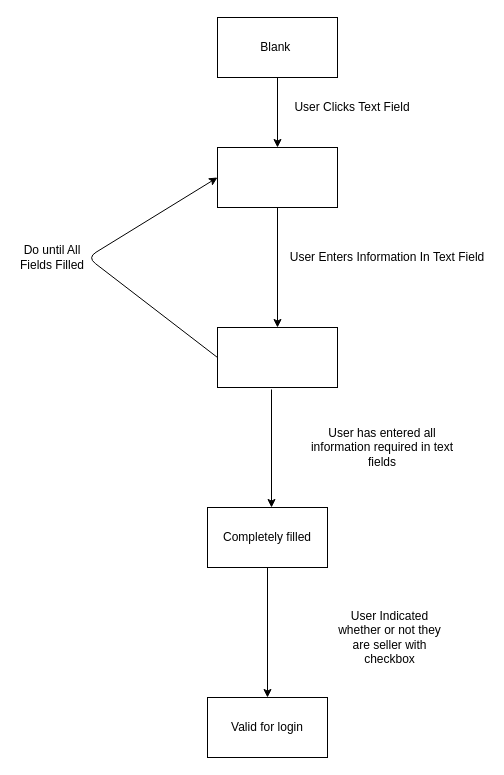
The diagram is 504 pixels wide and 775 high, and some of its shapes have lost their labels. The centre of each missing label's shape, as x and y in pixels:
"Field Filled" goes at [277,357].
"Ready for input" goes at [277,177].
